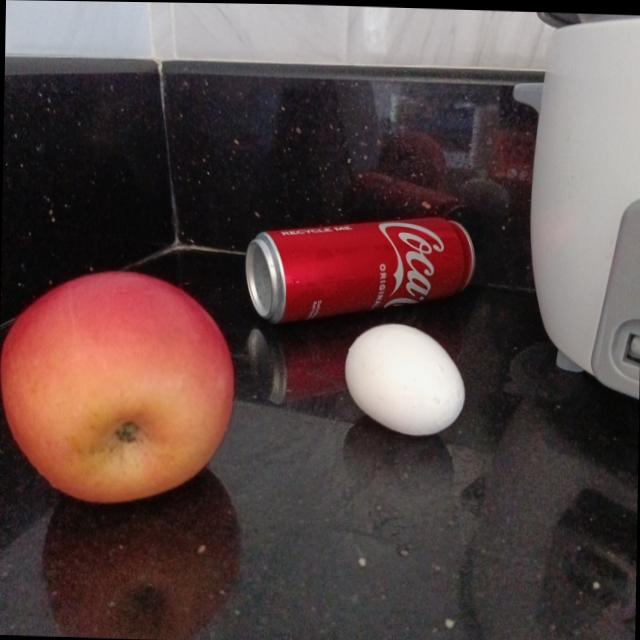apple: (0, 268, 236, 502)
coke: (244, 210, 473, 324)
egg: (342, 319, 466, 437)
